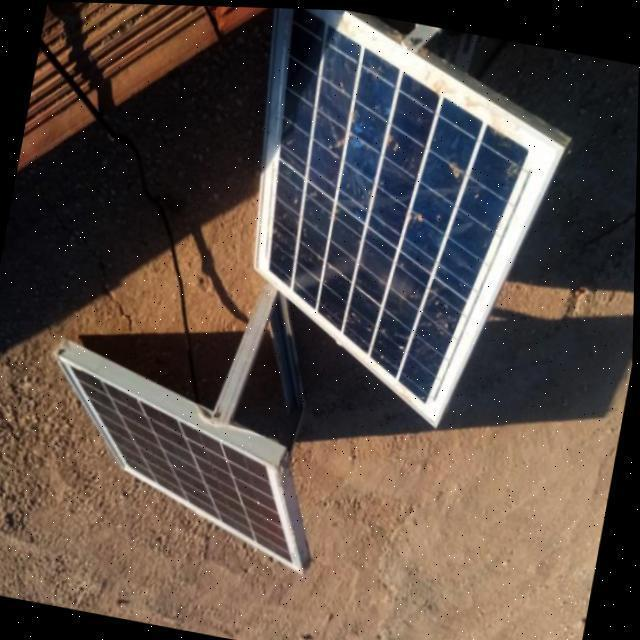Normal Solar Panel: (28, 356, 337, 574)
